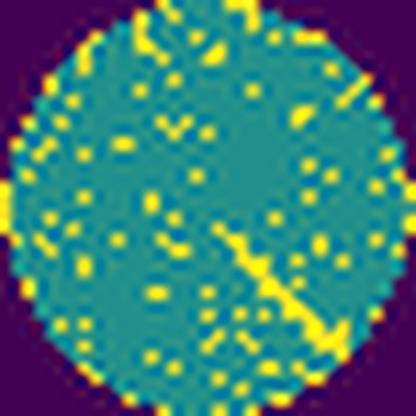Scratch: (210, 220, 351, 364)
